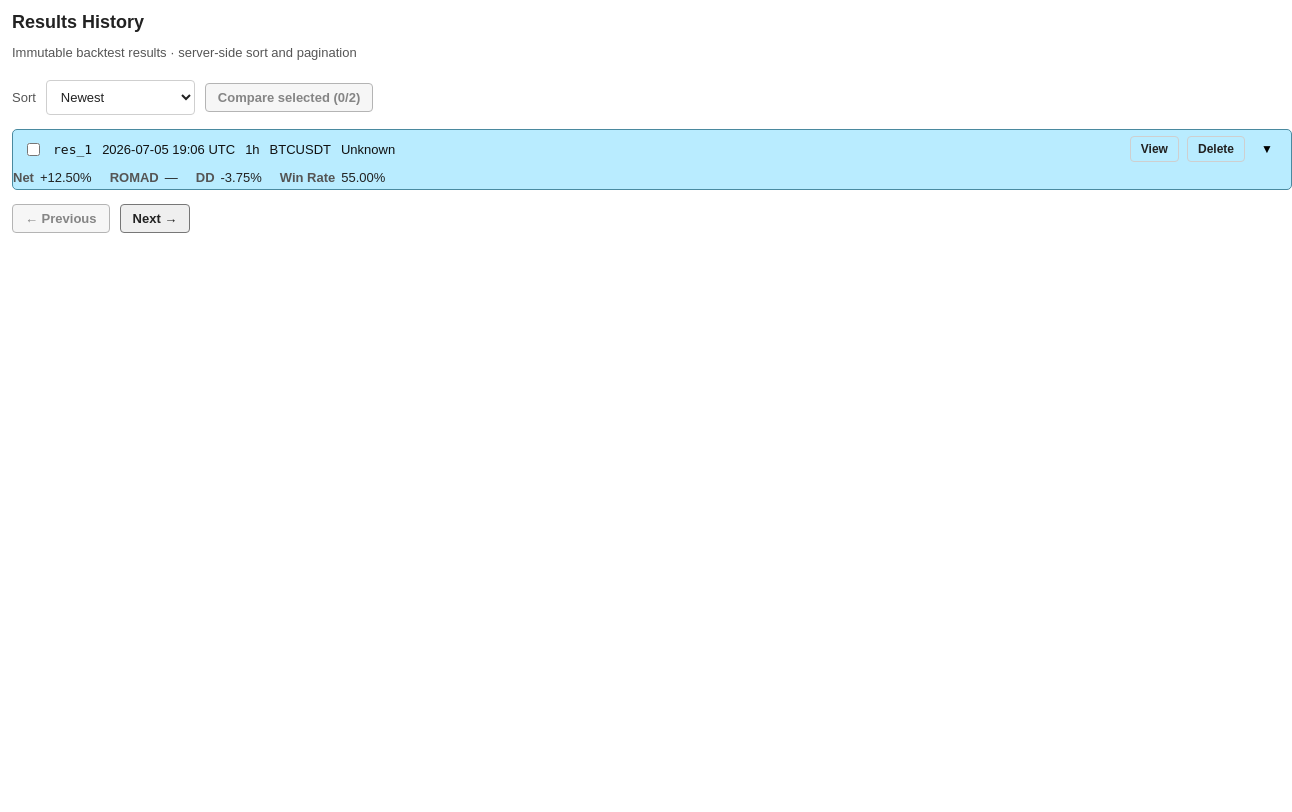
it: Results History page › expands a row to reveal pinned strategies, parameters, data, date and the immutable manifest summary (UI-16)
Expected: the text "res_1" is shown, left=53, top=142, right=92, bottom=156
Click the button named "Details for res_1": (1267, 149) left=1253, top=135, right=1281, bottom=163
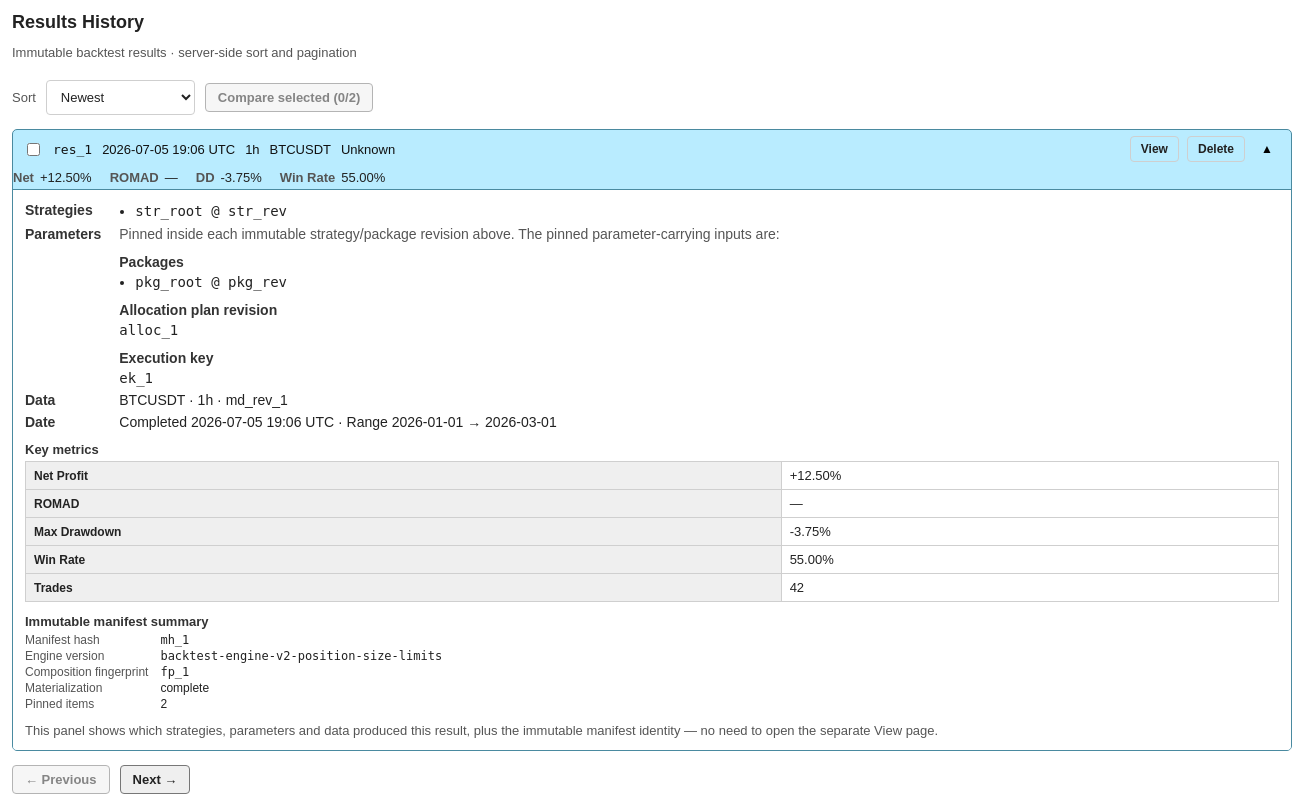
Now the text "str_root @ str_rev" is shown, box left=135, top=203, right=287, bottom=219
Now the text "pkg_root @ pkg_rev" is shown, box left=135, top=274, right=287, bottom=290
Now the text "ek_1" is shown, box left=119, top=370, right=153, bottom=386
